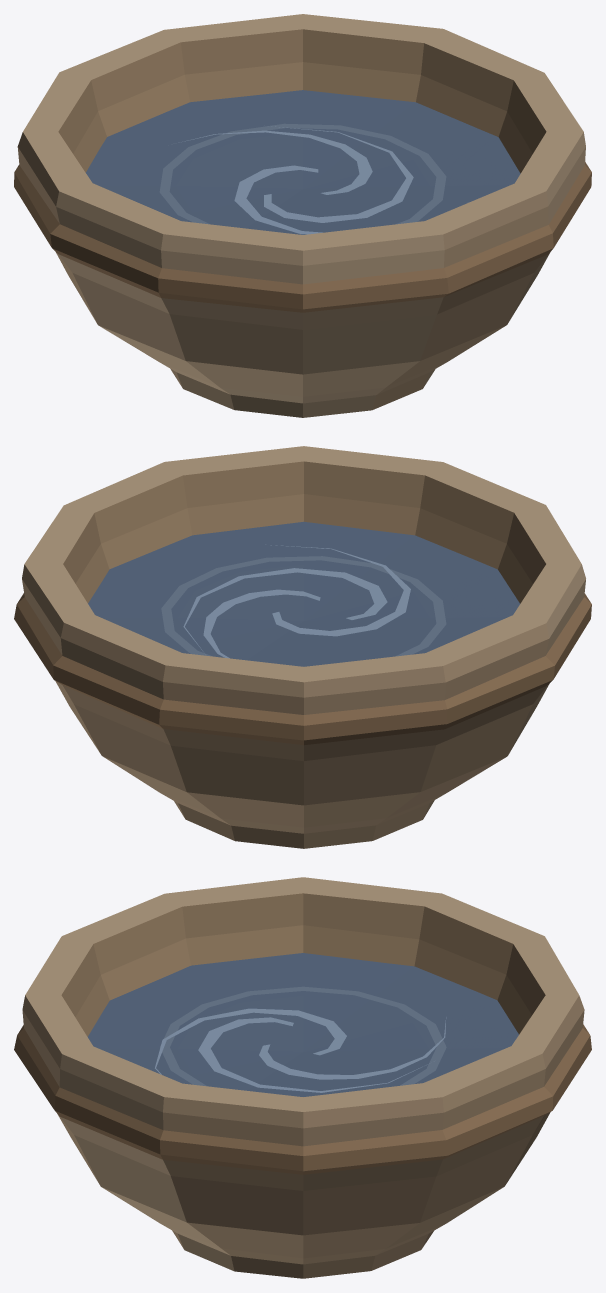
The model's file is bowl_t2.fbx.
3 renders of one model, top to bottom at view 1: azimuth 30°, elevation 25°; view 2: azimuth 150°, elevation 25°; view 3: azimuth 270°, elevation 25°, orthographic.
Visible parts, largest first — view 1: bowl_t2; view 2: bowl_t2; view 3: bowl_t2.
Part boxes in pixels (x1=…): bowl_t2: x1=14, y1=14, x2=591, y2=417; bowl_t2: x1=14, y1=446, x2=591, y2=848; bowl_t2: x1=14, y1=877, x2=591, y2=1278.
Size of the model in its own units: 14.33 by 6.2 by 14.37.
